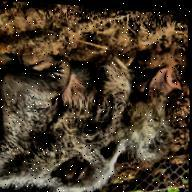boar: (0, 38, 192, 192)
